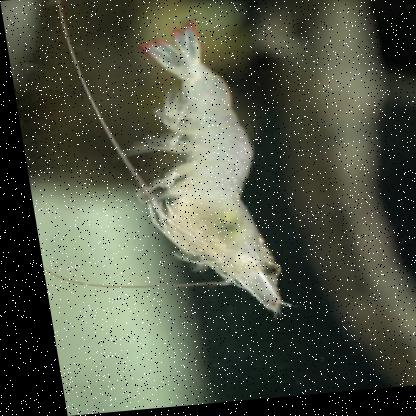shrimp: (115, 19, 277, 325)
